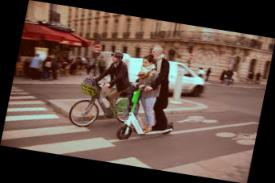multiple: (112, 41, 191, 149)
